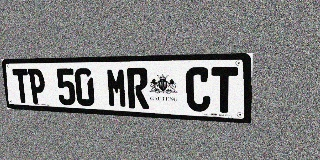0: (74, 68, 95, 106)
5: (56, 68, 76, 106)
C: (186, 67, 210, 112)
M: (106, 68, 128, 108)
P: (27, 69, 47, 104)
R: (127, 68, 149, 109)
T: (211, 67, 238, 113), (12, 69, 31, 103)
